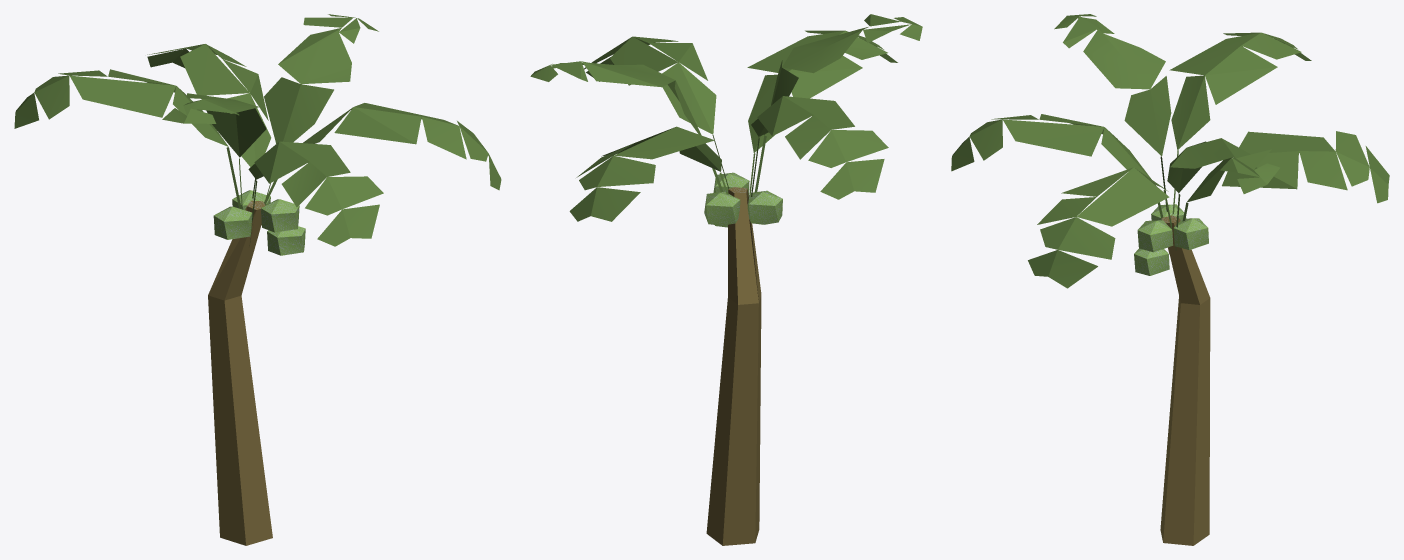
Rendered from Tree_Palm_Coconuts_03.fbx.
The picture shows the model from 3 angles, left to right: view 1: azimuth 30°, elevation 25°; view 2: azimuth 150°, elevation 25°; view 3: azimuth 270°, elevation 25°; orthographic projection. The views are drawn at different scales.
Parts seen in each view (by area): view 1: Model; view 2: Model; view 3: Model.
Boxes of the visible parts, <box> form: Model: <box>14,14,501,545</box>; Model: <box>530,14,922,545</box>; Model: <box>951,14,1389,545</box>.
Size of the model in its own units: 488 by 605 by 513.
